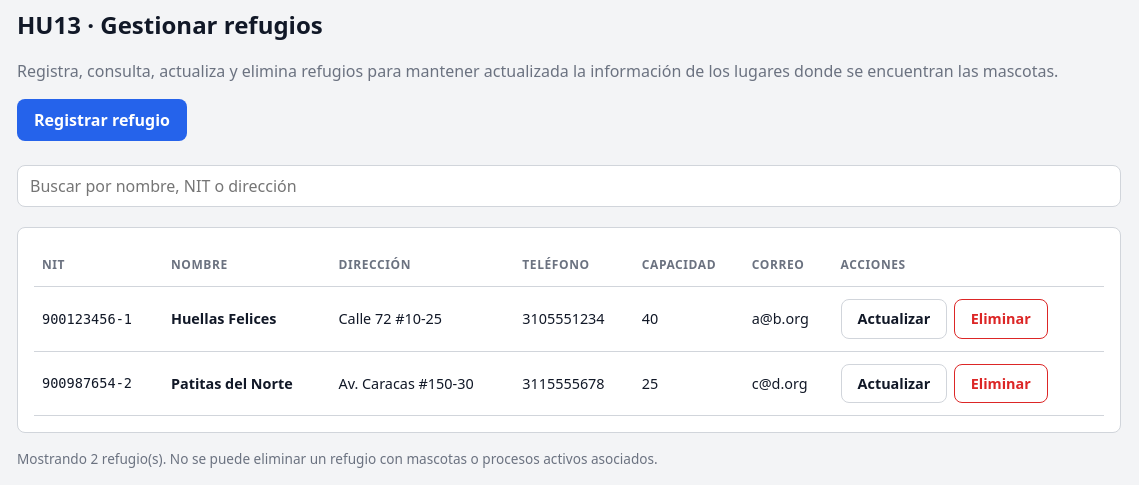
HU13 - ShelterManager › filtra refugios por búsqueda
expect the text "Huellas Felices" is shown: met, box top-left (163, 286), bottom-right (330, 351)
Step 1. Type "Patitas" into the search field named "buscar refugios" → (569,186), box top-left (17, 165), bottom-right (1121, 207)
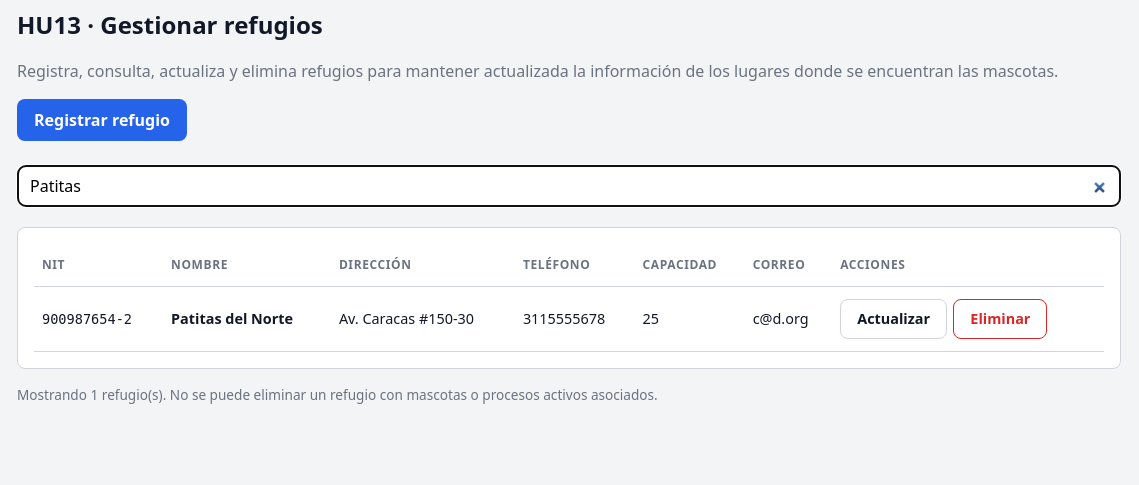
expect the text "Patitas del Norte" is shown: met, box top-left (163, 286), bottom-right (331, 351)
expect the text "Huellas Felices" is gone: met
